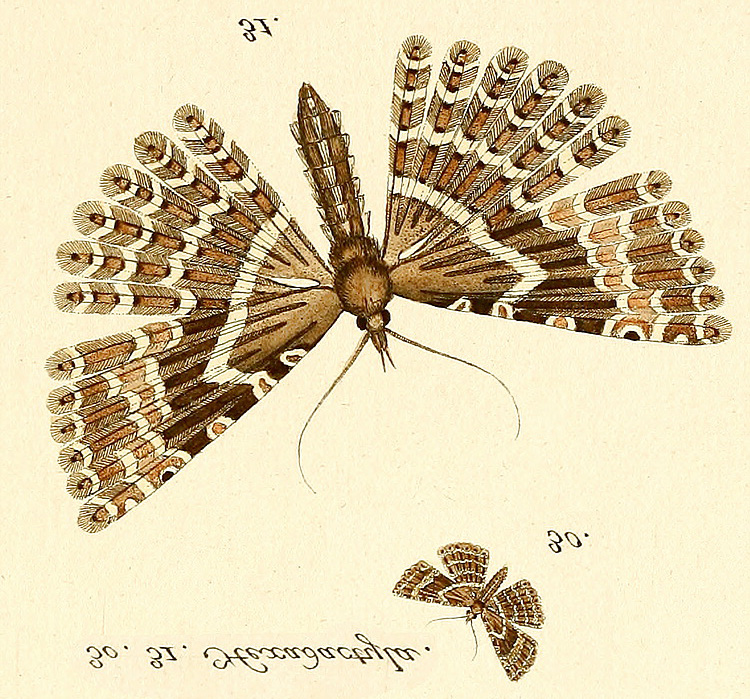Alucitidae: (39, 23, 734, 528)
moth: (41, 25, 736, 530)
